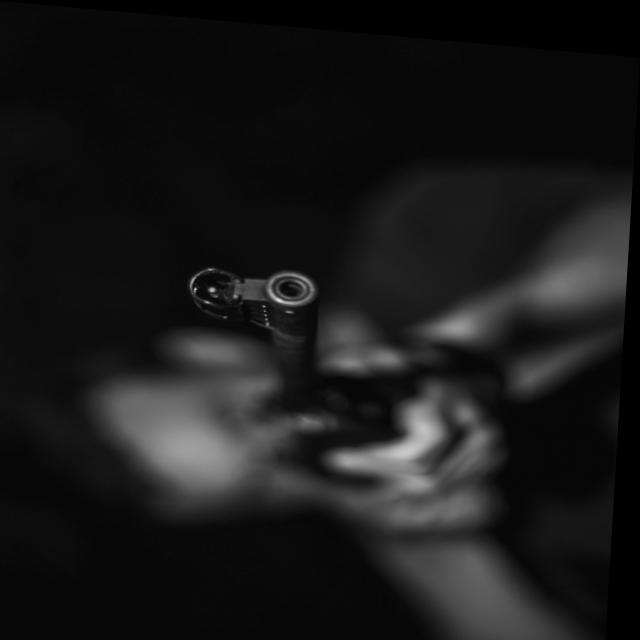handgun: (176, 254, 421, 476)
